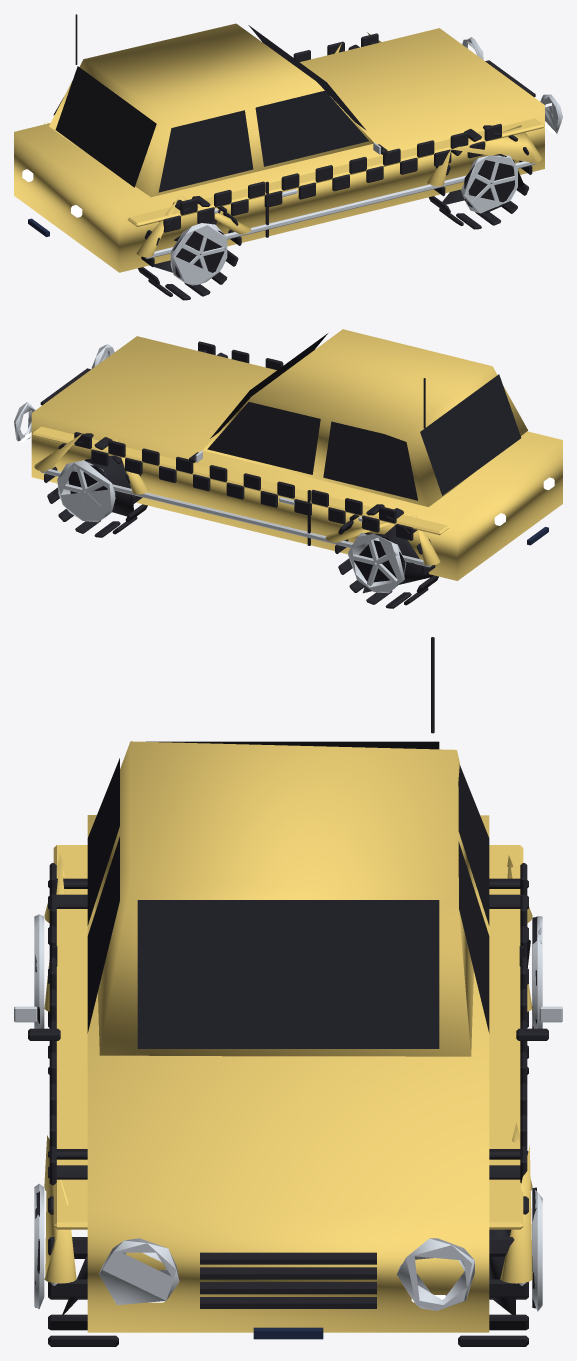
File: taxi.glb
3 views of the same model, one above another, from view 1: azimuth 30°, elevation 25°; view 2: azimuth 150°, elevation 25°; view 3: azimuth 270°, elevation 25° (orthographic). The views are drawn at different scales.
Visible parts, largest first — view 1: taxi; view 2: taxi; view 3: taxi.
Part boxes in pixels (box(x1,y1,x2,y2)): taxi: box(14, 14, 562, 300); taxi: box(14, 329, 562, 608); taxi: box(14, 637, 562, 1346).
Size of the model in its own units: 4.59 by 1.94 by 2.36.
1 material, 1 textured.
